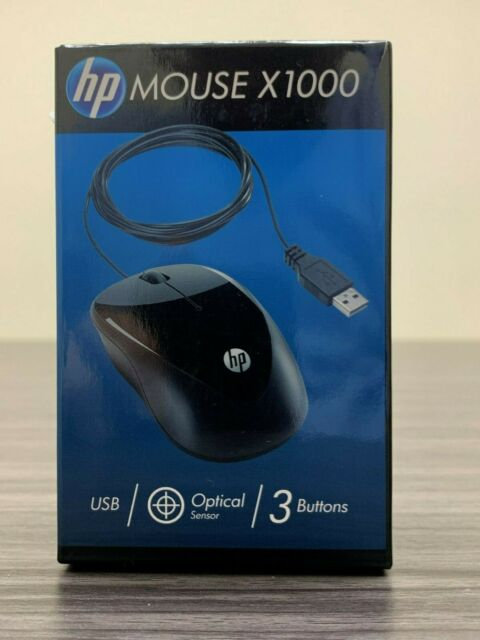hp-mouse-X1000: (80, 125, 370, 464)
